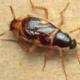cockroach: (9, 15, 78, 53)
